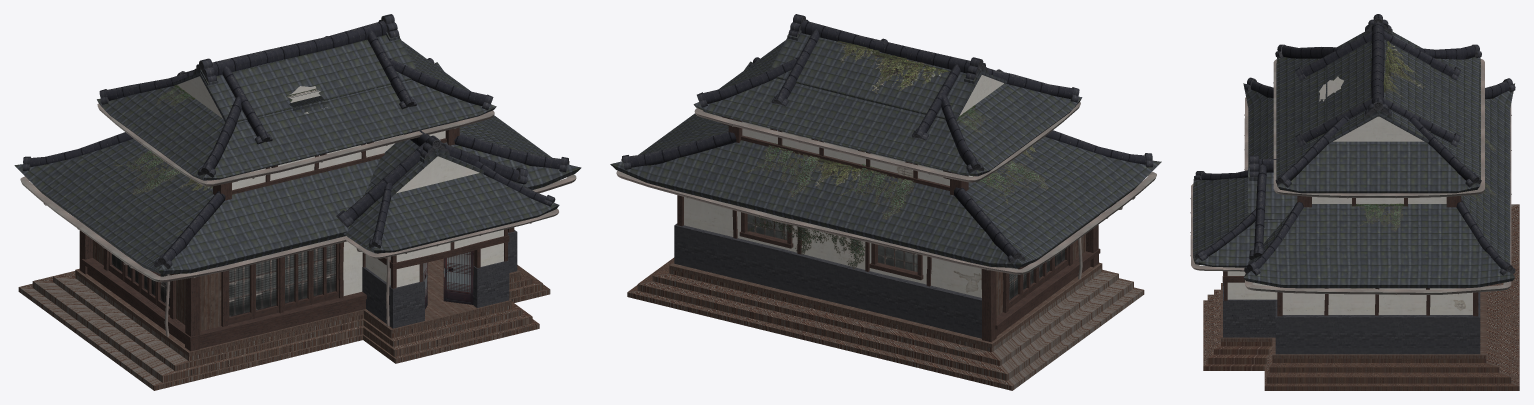
Rendered from house.glb.
The picture shows the model from 3 angles, left to right: view 1: azimuth 30°, elevation 25°; view 2: azimuth 150°, elevation 25°; view 3: azimuth 270°, elevation 25°; orthographic projection. The views are drawn at different scales.
Visible parts, largest first — view 1: MainHouse_01_geo; view 2: MainHouse_01_geo; view 3: MainHouse_01_geo.
Boxes of the visible parts, <box> form: MainHouse_01_geo: <box>14,14,581,390</box>; MainHouse_01_geo: <box>610,14,1161,390</box>; MainHouse_01_geo: <box>1190,14,1519,390</box>.
Bounding box in the file's own units: 15.2 × 8.88 × 10.85.
Materials: 12 (12 with a texture image).
